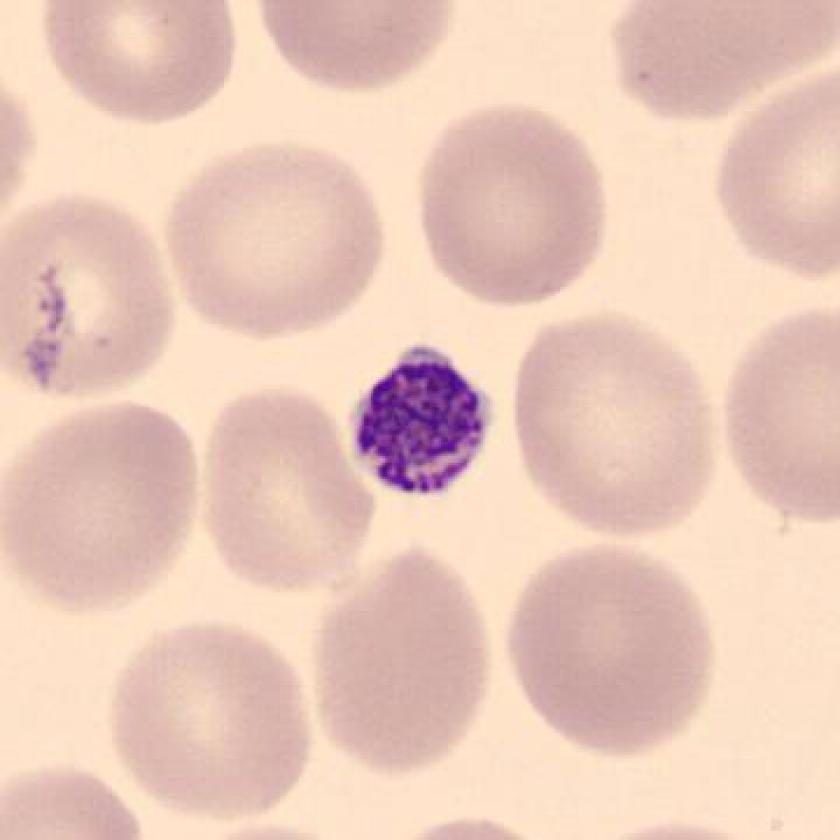platelets: (337, 335, 505, 506)
